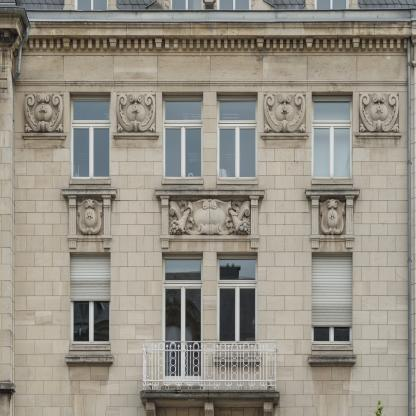Balcony: (142, 342, 276, 391)
Building Outline: (0, 0, 415, 415)
Deco: (260, 93, 309, 139), (356, 92, 402, 139), (113, 93, 159, 139), (22, 93, 67, 140)
Door: (162, 283, 203, 386)
Facade: (0, 0, 415, 415)
Floor: (0, 31, 416, 229), (0, 240, 416, 391)
Floor Slab: (0, 228, 416, 240), (0, 390, 416, 402), (0, 20, 416, 31)
Molding: (0, 13, 416, 56)
Sill: (154, 187, 265, 249), (61, 187, 117, 249), (304, 188, 360, 249), (307, 355, 357, 363), (65, 355, 113, 363), (212, 355, 260, 363)
Window: (312, 252, 353, 346), (70, 253, 111, 346), (217, 252, 258, 344), (312, 92, 353, 179), (70, 92, 111, 179), (162, 92, 203, 179), (217, 92, 258, 179), (162, 252, 203, 282)
